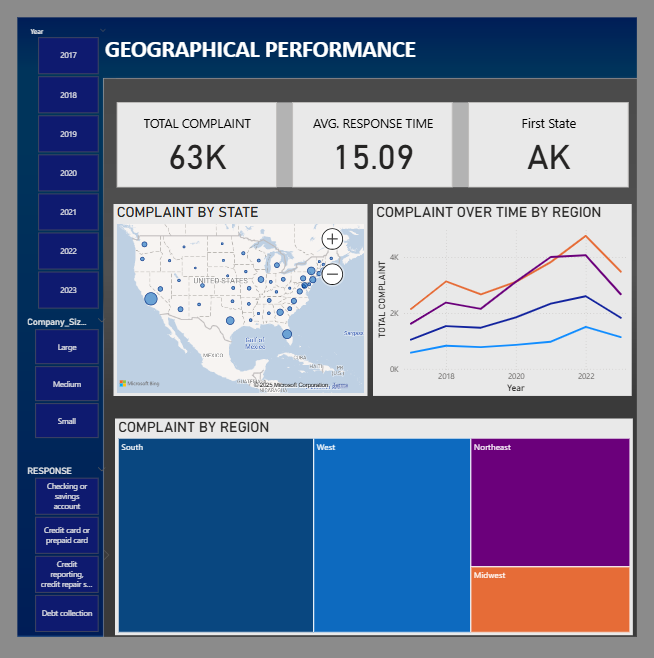

The dashboard page shown, as its layout file describes it:
{"tool":"powerbi","page":{"name":"GEOGRAPHICAL PERFORMANCE","canvas":[1045,1048],"ordinal":2},"visuals":[{"type":"textbox","box":[164.6,50,841.7,85.4],"z":0},{"type":"cardVisual","fields":{"Data":["MEASURES (2).TOTAL COMPLAINT","MEASURES (2).AVG. RESPONSE TIME","Min(Complaints.State)"]},"box":[183.3,156.2,822.9,145.8],"z":1000},{"type":"lineChart","title":"COMPLAINT OVER TIME BY REGION","fields":{"Category":["DateTable.Year"],"Y":["MEASURES (2).TOTAL COMPLAINT"],"Series":["Complaints.Census_Region"]},"box":[595.7,323.9,410.9,304.3],"z":2000},{"type":"treemap","title":"COMPLAINT BY REGION","fields":{"Group":["Complaints.Census_Region"],"Values":["MEASURES (2).TOTAL COMPLAINT"]},"box":[184.7,664.4,822,344.1],"z":3000},{"type":"slicer","fields":{"Values":["DateTable.Year"]},"box":[37,39.1,145.7,458.7],"z":4000},{"type":"slicer","fields":{"Values":["Company.Company_Size_Tier"]},"box":[32.6,497.8,150,204.3],"z":5000},{"type":"slicer","fields":{"Values":["Complaints.Product"]},"box":[32.6,732.6,150,276.1],"z":6000},{"type":"map","title":"COMPLAINT BY STATE","fields":{"Category":["Complaints.State"],"Size":["MEASURES (2).TOTAL COMPLAINT"],"Y":["Avg(Complaints.State_Latitude)"],"X":["Avg(Complaints.State_Longitude)"]},"box":[182.6,323.9,402.2,304.3],"z":7000}]}

Visuals, with their boxes in screenshot pixels (x1, y1, x2, y2), scaled from the page's 1045x1048 canvas onto the 654x658 screenshot:
textbox: (103,31,630,85)
cardVisual - MEASURES (2).TOTAL COMPLAINT x MEASURES (2).AVG. RESPONSE TIME: (115,98,630,190)
"COMPLAINT OVER TIME BY REGION" lineChart: (373,203,630,394)
"COMPLAINT BY REGION" treemap: (116,417,630,633)
slicer - DateTable.Year: (23,25,114,313)
slicer - Company.Company_Size_Tier: (20,313,114,441)
slicer - Complaints.Product: (20,460,114,633)
"COMPLAINT BY STATE" map: (114,203,366,394)
